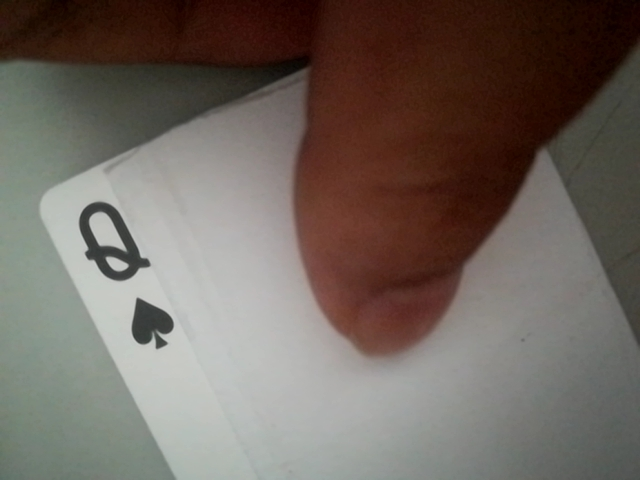ht q: (54, 187, 195, 362)
